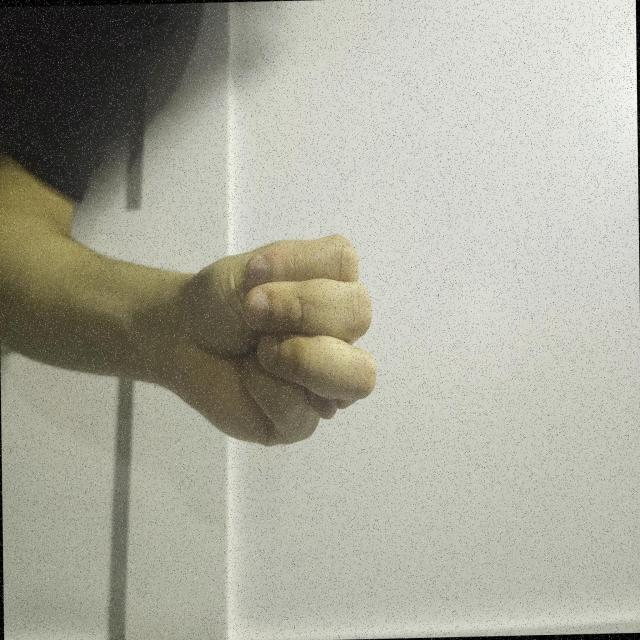M: (330, 343, 501, 639)
